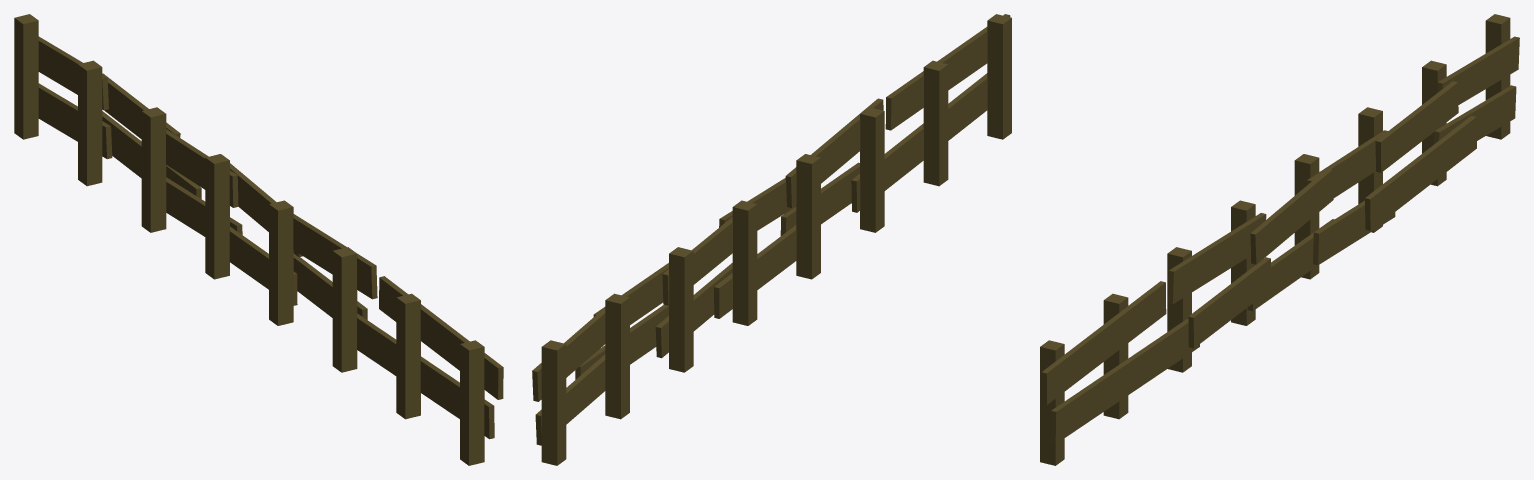
File: fence_wide.fbx
3 renders of one model, left to right at view 1: azimuth 30°, elevation 25°; view 2: azimuth 150°, elevation 25°; view 3: azimuth 330°, elevation 25°, orthographic.
Parts seen in each view (by area): view 1: fence_low_wide; view 2: fence_low_wide; view 3: fence_low_wide.
Part boxes in pixels (x1,y1,x2,y2): fence_low_wide: (14,14,503,465); fence_low_wide: (532,14,1011,465); fence_low_wide: (1040,14,1519,465).
Size of the model in its own units: 56.86 by 200 by 1486.
